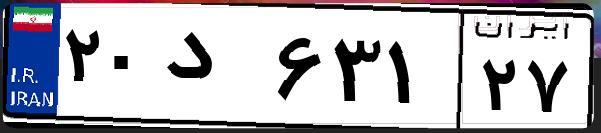0: (110, 28, 158, 98)
1: (385, 28, 445, 110)
2: (57, 26, 110, 100), (475, 38, 525, 113)
3: (330, 28, 385, 110)
6: (270, 28, 330, 110)
7: (525, 38, 570, 115)
د: (158, 20, 270, 120)
